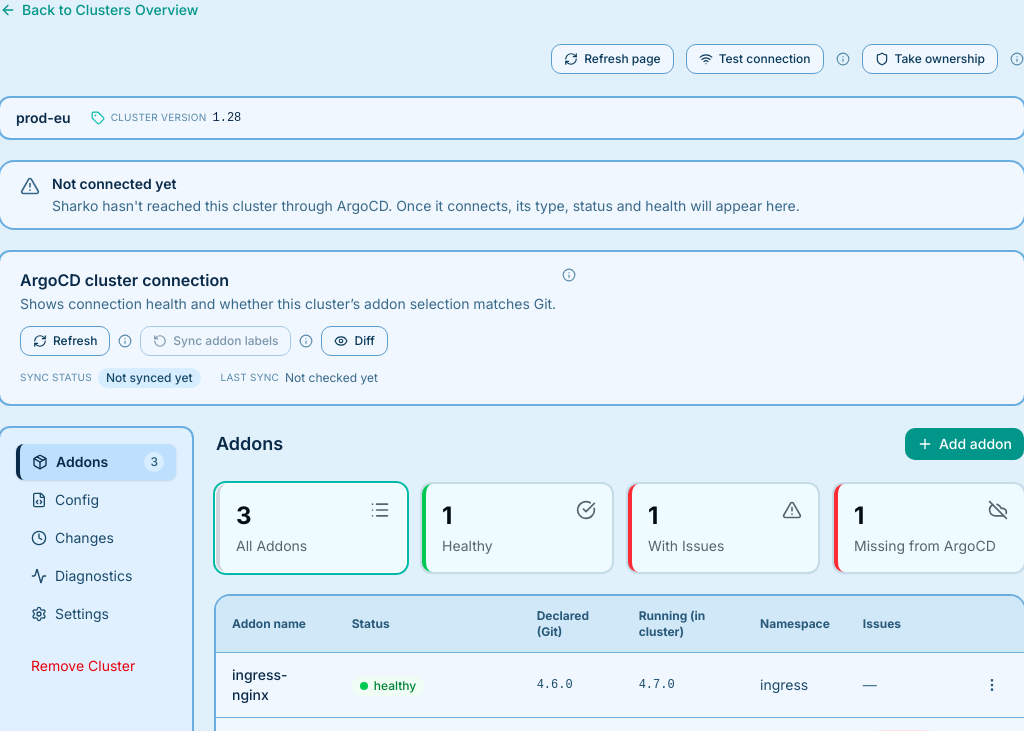
Test: ClusterDetail › switches away from and back to the addons section via nav
This screenshot has width=1024, height=731.
Expected: the heading "prod-eu" is shown, [16, 108, 71, 128]
Expected: the text "All Addons" is shown, [236, 537, 307, 554]
// Click Settings in nav panel — addons table goes away.
Click the button "Settings": [96, 614] box [16, 596, 176, 632]
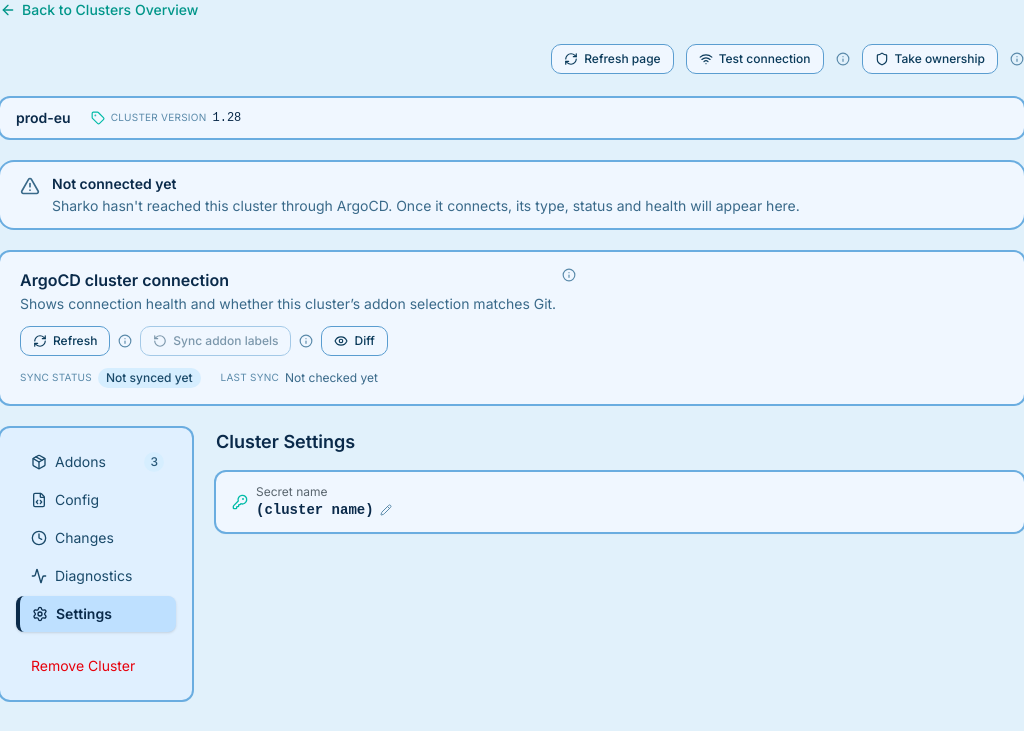
Expected: the button "All Addons" is gone
// Click back to Addons — the table returns.
Click the text "Addons": [80, 462] box [55, 452, 106, 472]
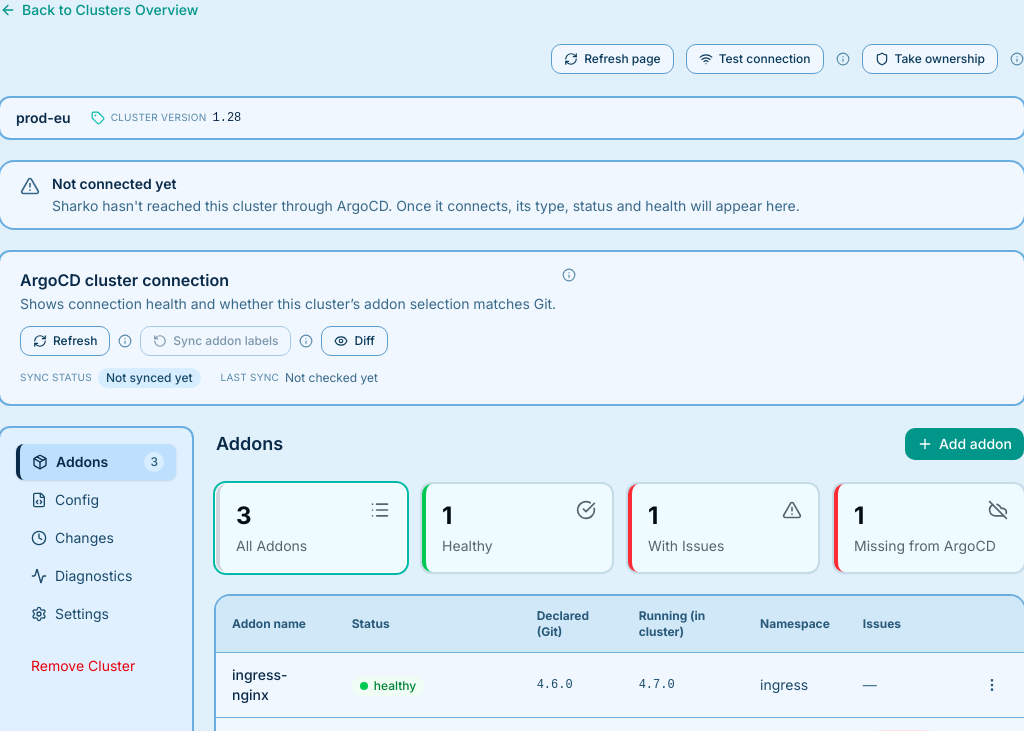
Expected: the text "All Addons" is shown, [236, 537, 307, 554]
Expected: the link "ingress-nginx" is shown, [232, 666, 288, 703]
